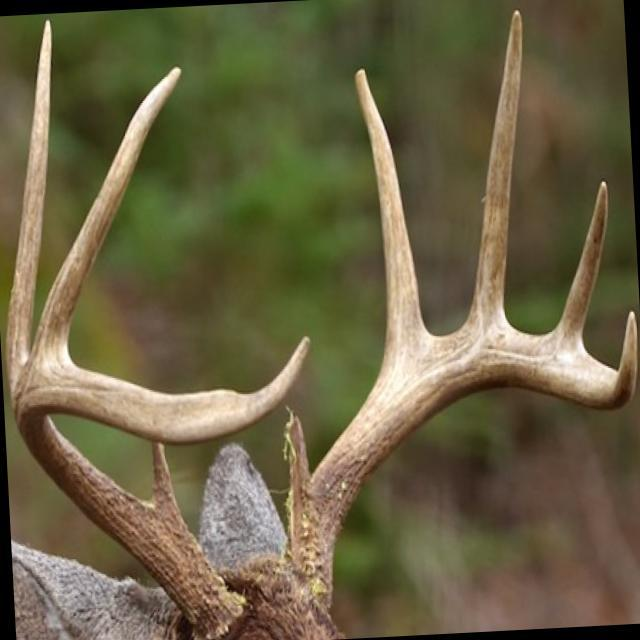L-F: (294, 309, 638, 608)
L-G1: (284, 410, 312, 535)
L-G2: (354, 68, 430, 379)
L-G3: (471, 8, 523, 326)
L-G4: (556, 182, 609, 343)
R-F: (15, 336, 311, 640)
R-G1: (151, 443, 180, 517)
R-G2: (6, 18, 52, 395)
R-G3: (32, 66, 182, 368)
